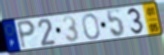2: (37, 17, 58, 48)
3: (127, 6, 146, 37), (62, 14, 79, 45)
5: (104, 8, 127, 38)
O: (82, 13, 102, 41)
P: (16, 19, 37, 50)
